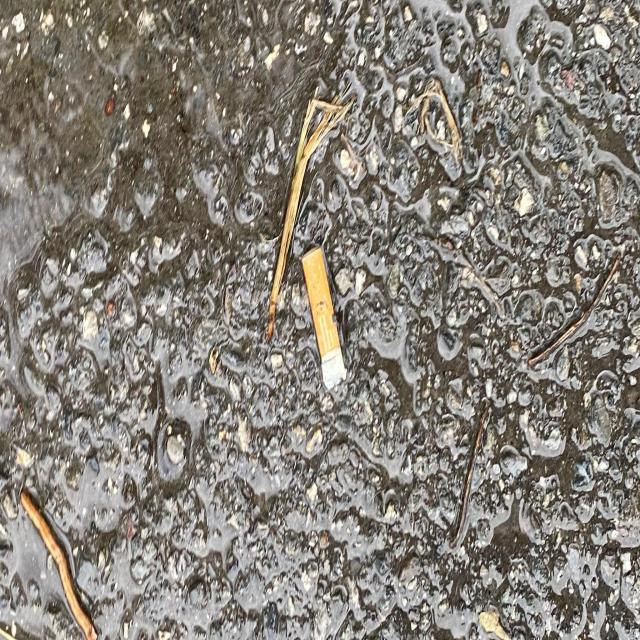other waste: (301, 244, 347, 392)
